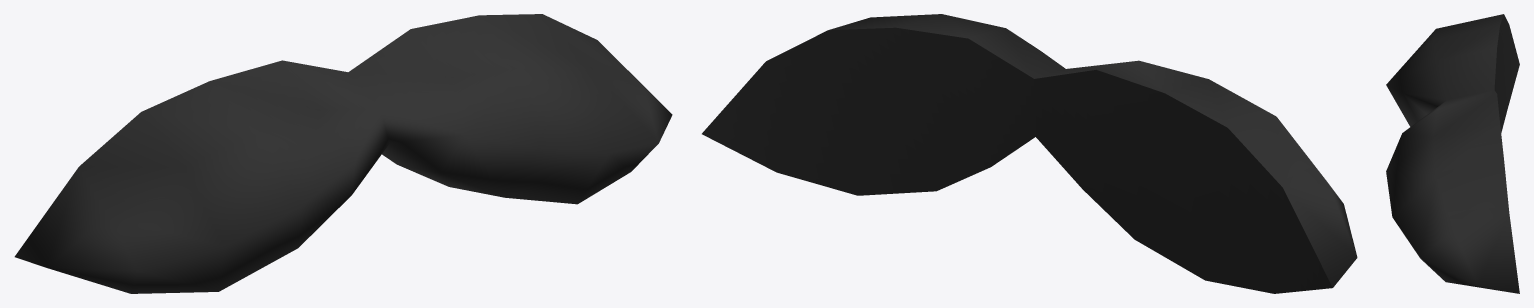
Rendered from Mustache_5.fbx.
3 renders of one model, left to right at view 1: azimuth 30°, elevation 25°; view 2: azimuth 150°, elevation 25°; view 3: azimuth 270°, elevation 25°, orthographic. The views are drawn at different scales.
Parts seen in each view (by area): view 1: Mustache_5; view 2: Mustache_5; view 3: Mustache_5.
Part boxes in pixels (left/top/right/bottom): Mustache_5: left=14, top=14, right=672, bottom=293; Mustache_5: left=702, top=14, right=1357, bottom=293; Mustache_5: left=1386, top=14, right=1519, bottom=293.
Bounding box in the file's own units: 20.94 × 5.81 × 5.16.
